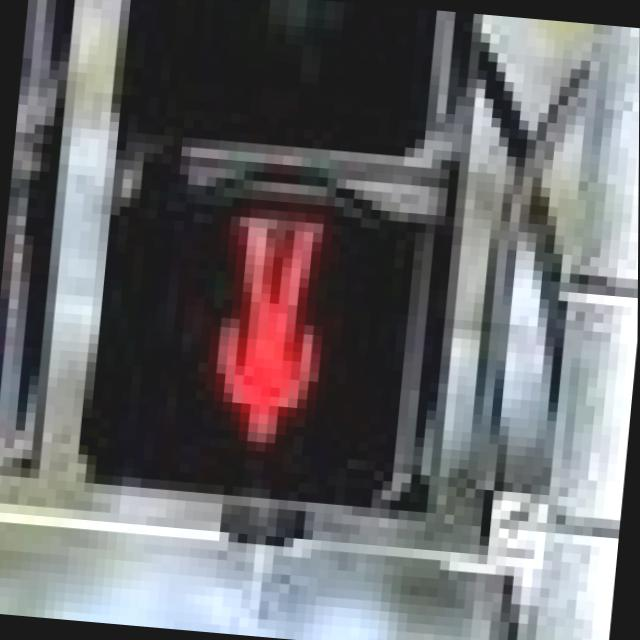red_light: (185, 203, 388, 514)
